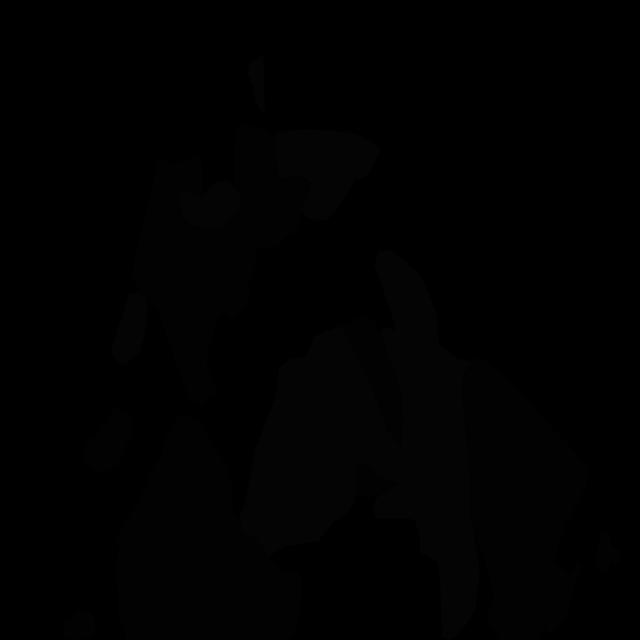cardboard: (115, 415, 302, 640), (462, 356, 589, 640), (132, 156, 236, 406), (211, 176, 312, 322), (340, 316, 402, 445), (82, 405, 133, 473), (235, 125, 280, 198), (544, 560, 582, 633), (355, 463, 398, 497), (595, 528, 621, 572), (63, 609, 96, 640)
soft_plastic: (372, 249, 480, 640), (240, 326, 402, 556), (275, 129, 380, 221), (180, 180, 240, 230), (111, 292, 147, 365), (248, 54, 265, 116)
